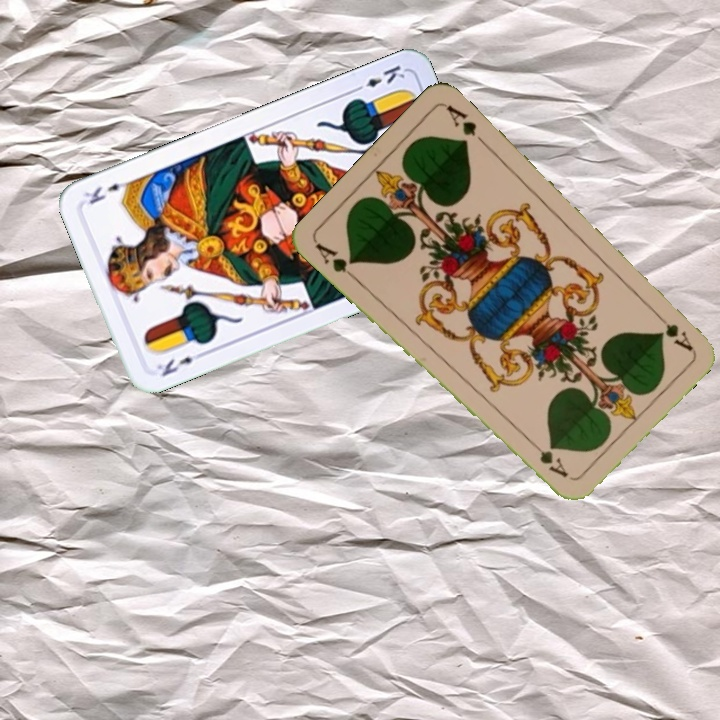EK: (349, 61, 408, 95), (152, 347, 207, 380)
GA: (648, 306, 695, 354), (311, 239, 360, 283)
